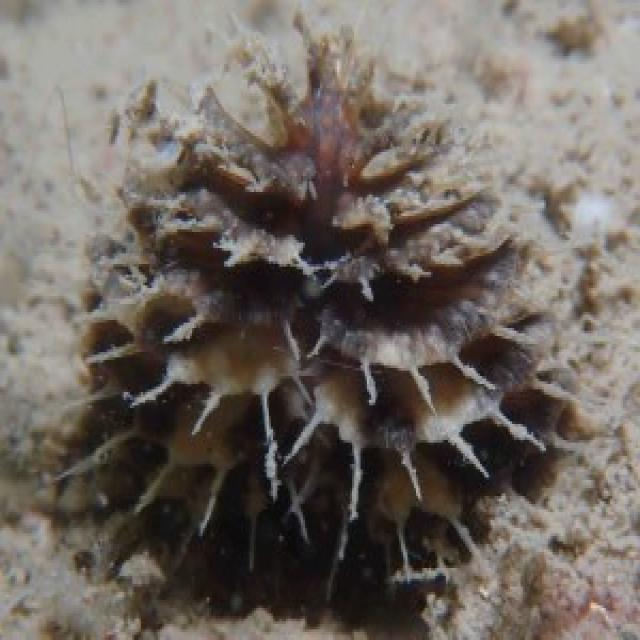Bleached: (55, 16, 585, 635)
